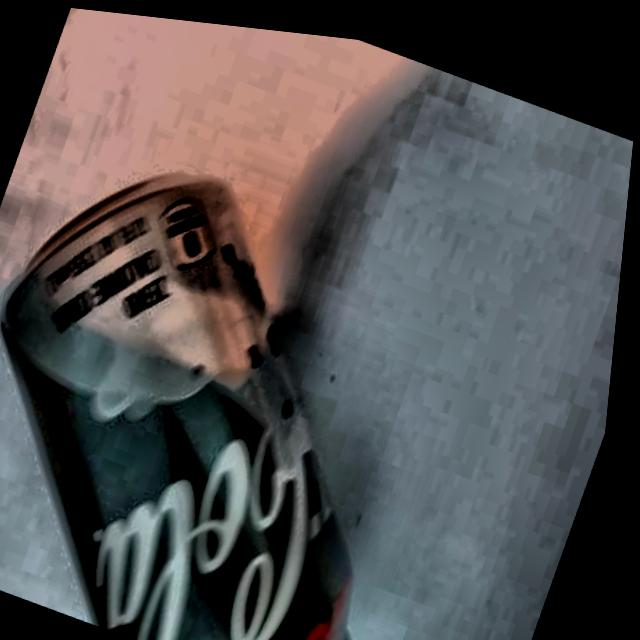Cans: (0, 90, 519, 640)
